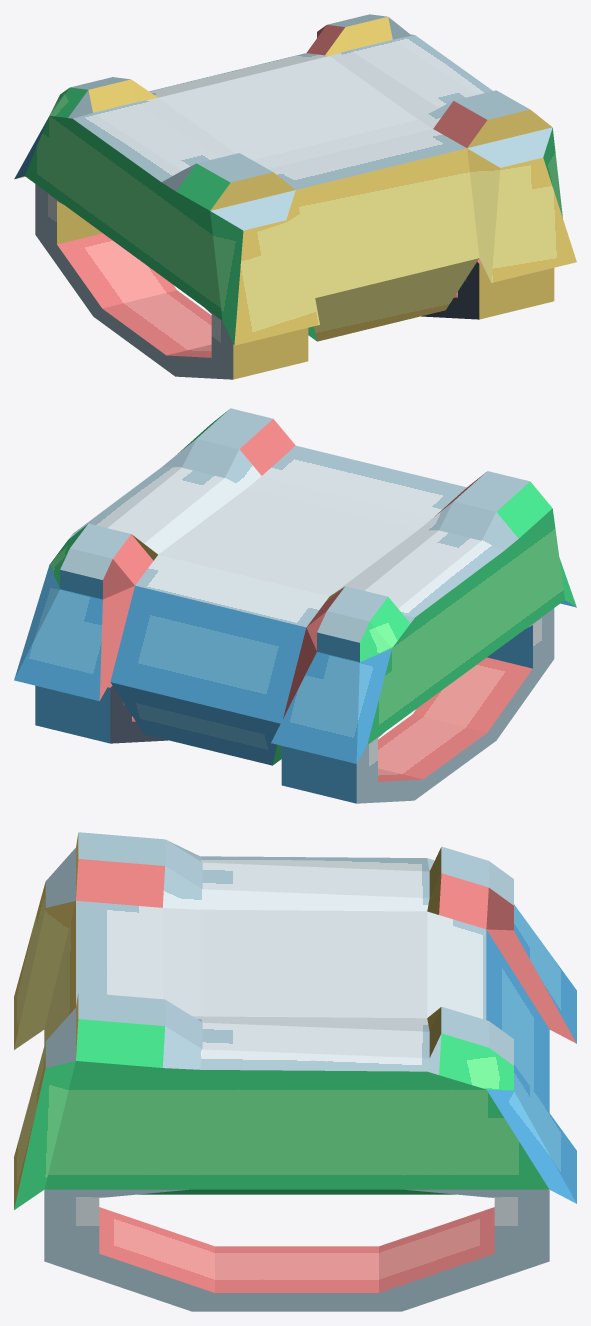
File: TonkBody.gltf
3 views of the same model, one above another, from view 1: azimuth 30°, elevation 25°; view 2: azimuth 150°, elevation 25°; view 3: azimuth 270°, elevation 25° (orthographic). The views are drawn at different scales.
Visible parts, largest first — view 1: Body, thread_L (×2); view 2: Body, thread_L (×2); view 3: Body, thread_L.
Part boxes in pixels (x1,y1,x2,y2): Body: (14,14,576,345); thread_L (×2): (35,184,554,379); Body: (14,408,576,765); thread_L (×2): (35,608,554,803); Body: (14,832,576,1209); thread_L: (44,1189,549,1311).
Size of the model in its own units: 1 by 0.6248 by 1.11.
Materials: 1 (1 with a texture image).
